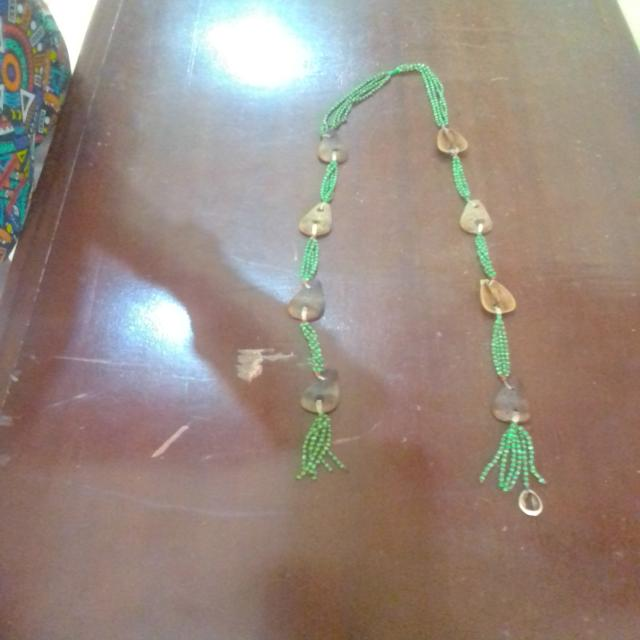facedown: (487, 375, 537, 425), (298, 362, 342, 416), (285, 276, 331, 324), (298, 199, 339, 239), (460, 196, 496, 237), (314, 135, 356, 169)
faceup: (474, 279, 520, 317), (434, 127, 470, 157)
